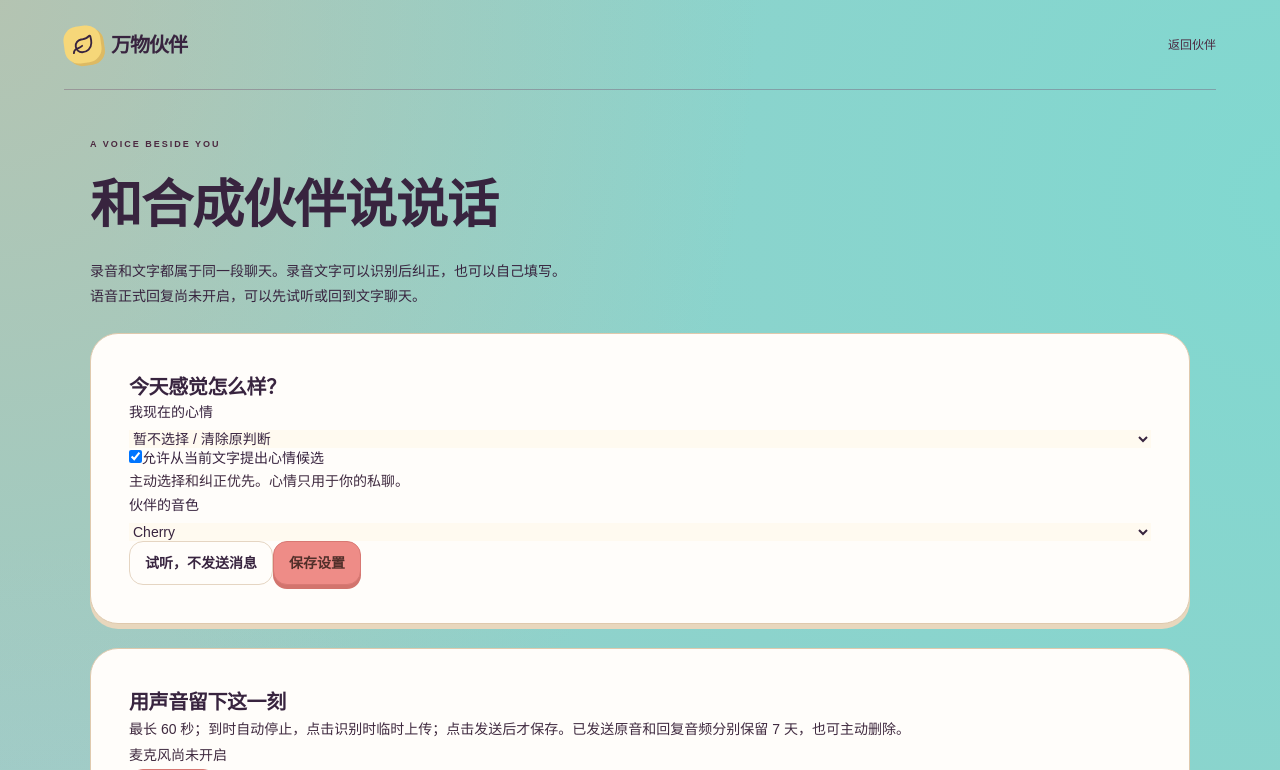
Test: never brings an old account custom feeling into a new account after a late save response
Select "我想自己说" in the dropdown labelled "我现在的心情" at (640, 440), box [129,430,1151,448]
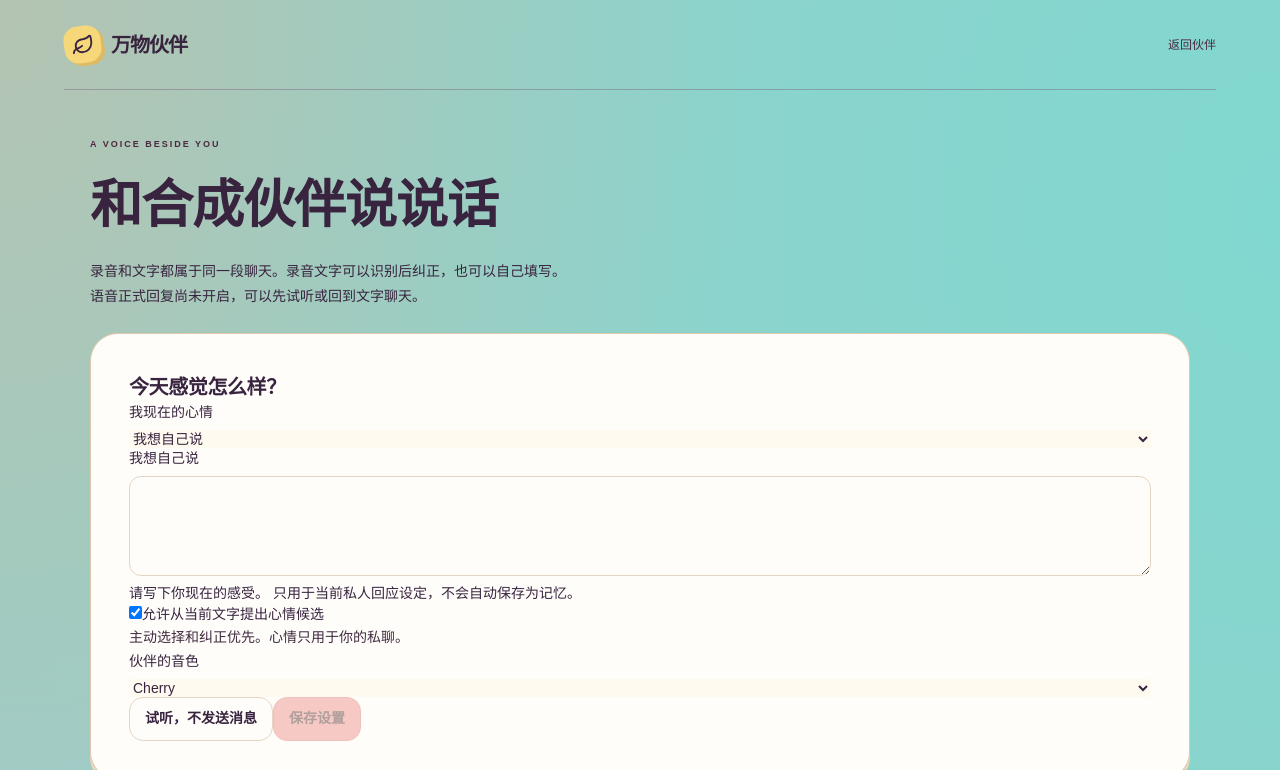
Type "A的私人感受" into the text box labelled "我想自己说" at (640, 526), box [129,476,1151,576]
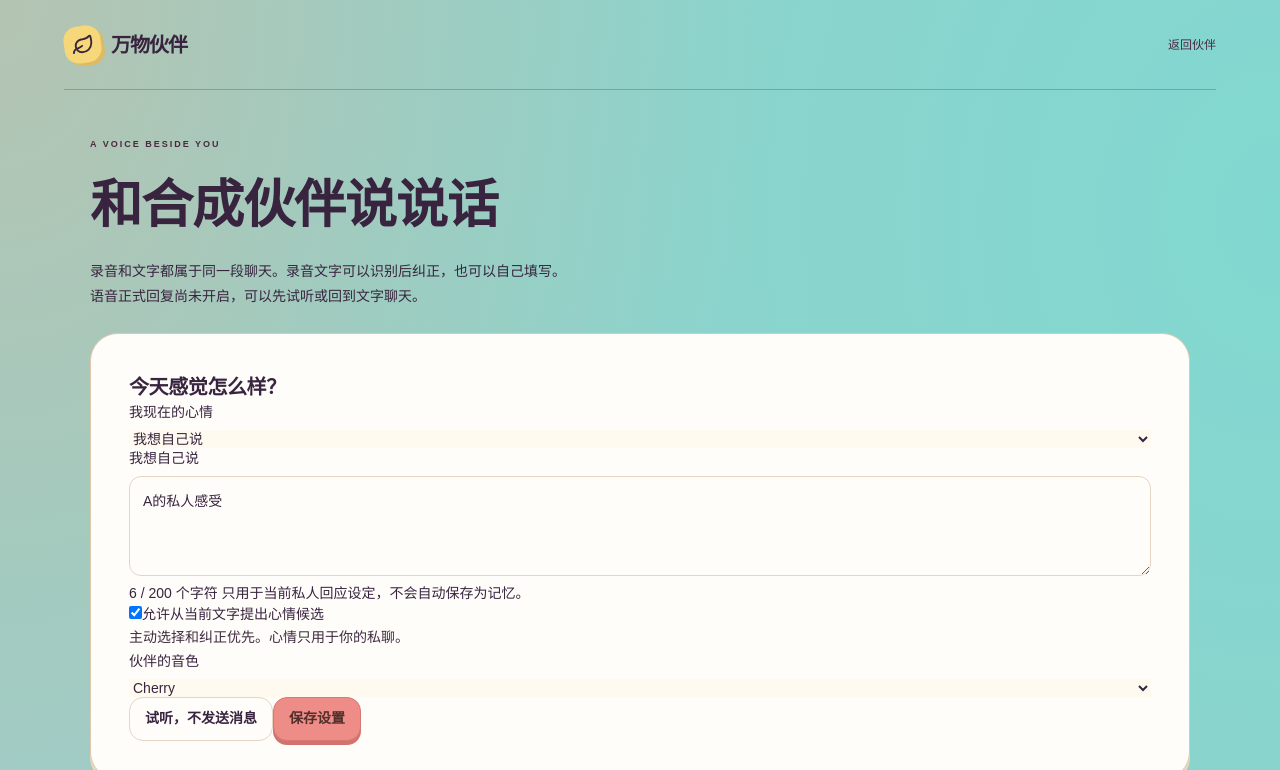
Click the button "保存设置" at (317, 719), box [273,697,361,741]
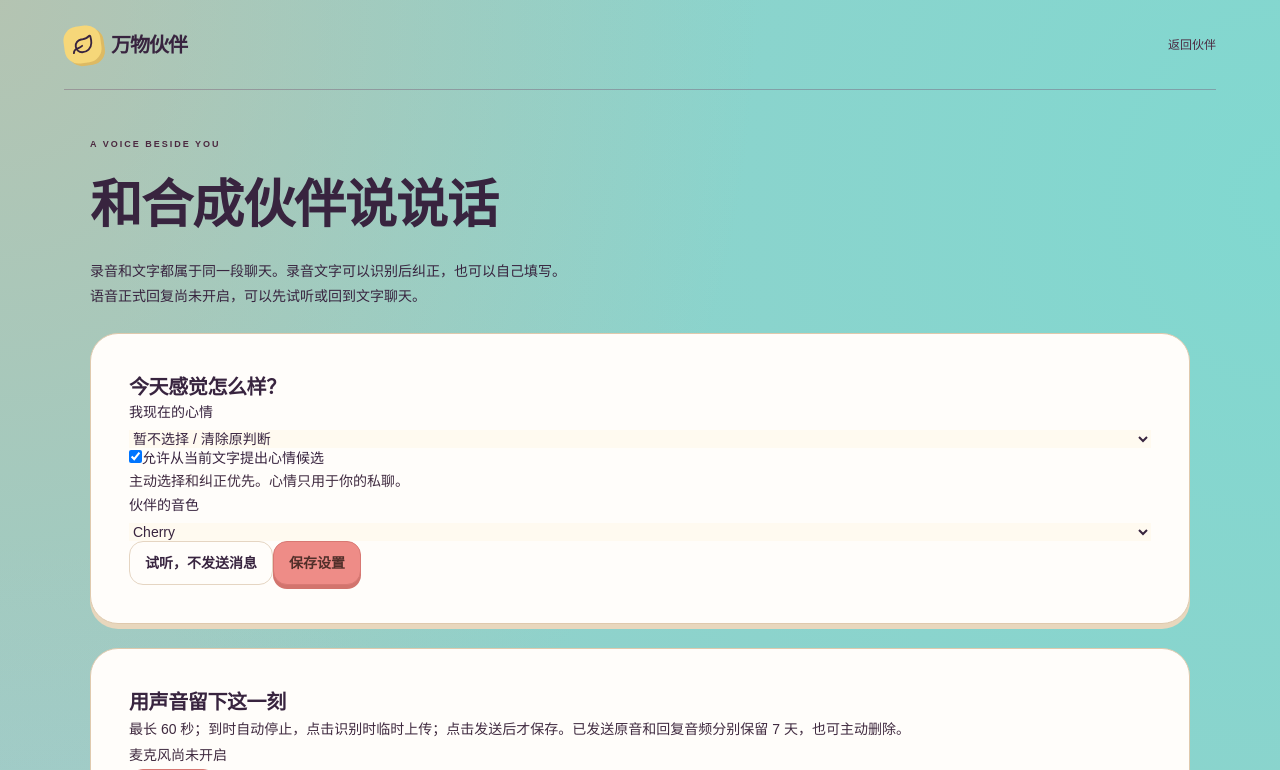
expect the field showing "A的私人感受" is not shown: met
expect the dropdown labelled "我现在的心情" shows "暂不选择 / 清除原判断": met, box [129,430,1151,448]
